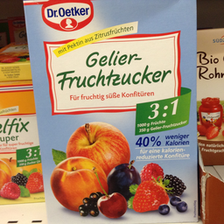sugar: (23, 1, 201, 224)
